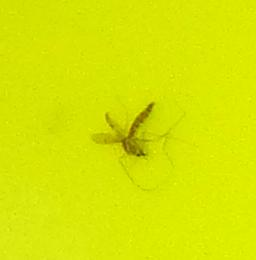Nematocera: (100, 100, 156, 160)
